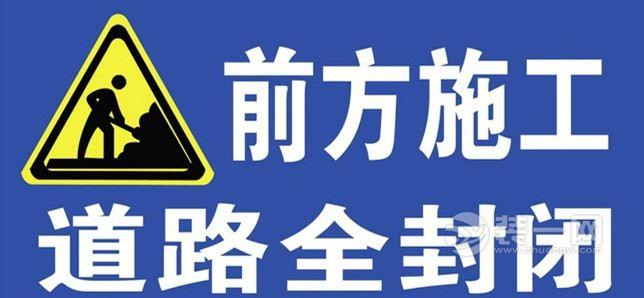sign: (13, 6, 630, 292)
